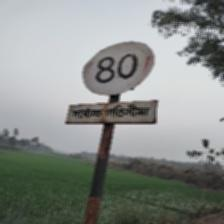Speed-limit: (67, 39, 159, 126)
